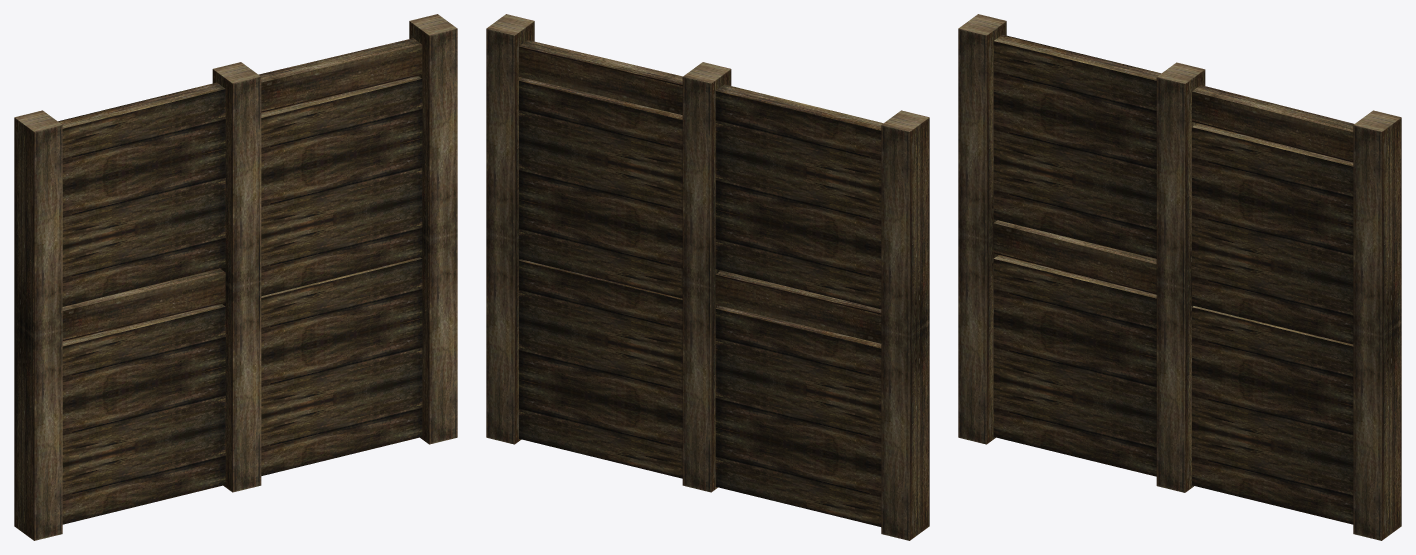
Rendered from general_obj_cliffgate_wall02.fbx.
3 renders of one model, left to right at view 1: azimuth 30°, elevation 25°; view 2: azimuth 150°, elevation 25°; view 3: azimuth 330°, elevation 25°, orthographic.
Visible parts, largest first — view 1: Sphere01; view 2: Sphere01; view 3: Sphere01.
Boxes of the visible parts, <box> form: Sphere01: <box>14,14,457,540</box>; Sphere01: <box>486,14,929,540</box>; Sphere01: <box>958,14,1401,540</box>.
Bounding box in the file's own units: 8.79 × 8.11 × 0.7212.
